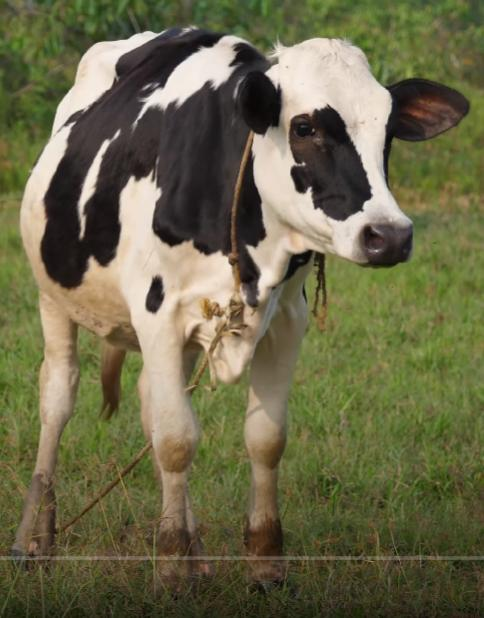cow: (23, 29, 466, 594)
